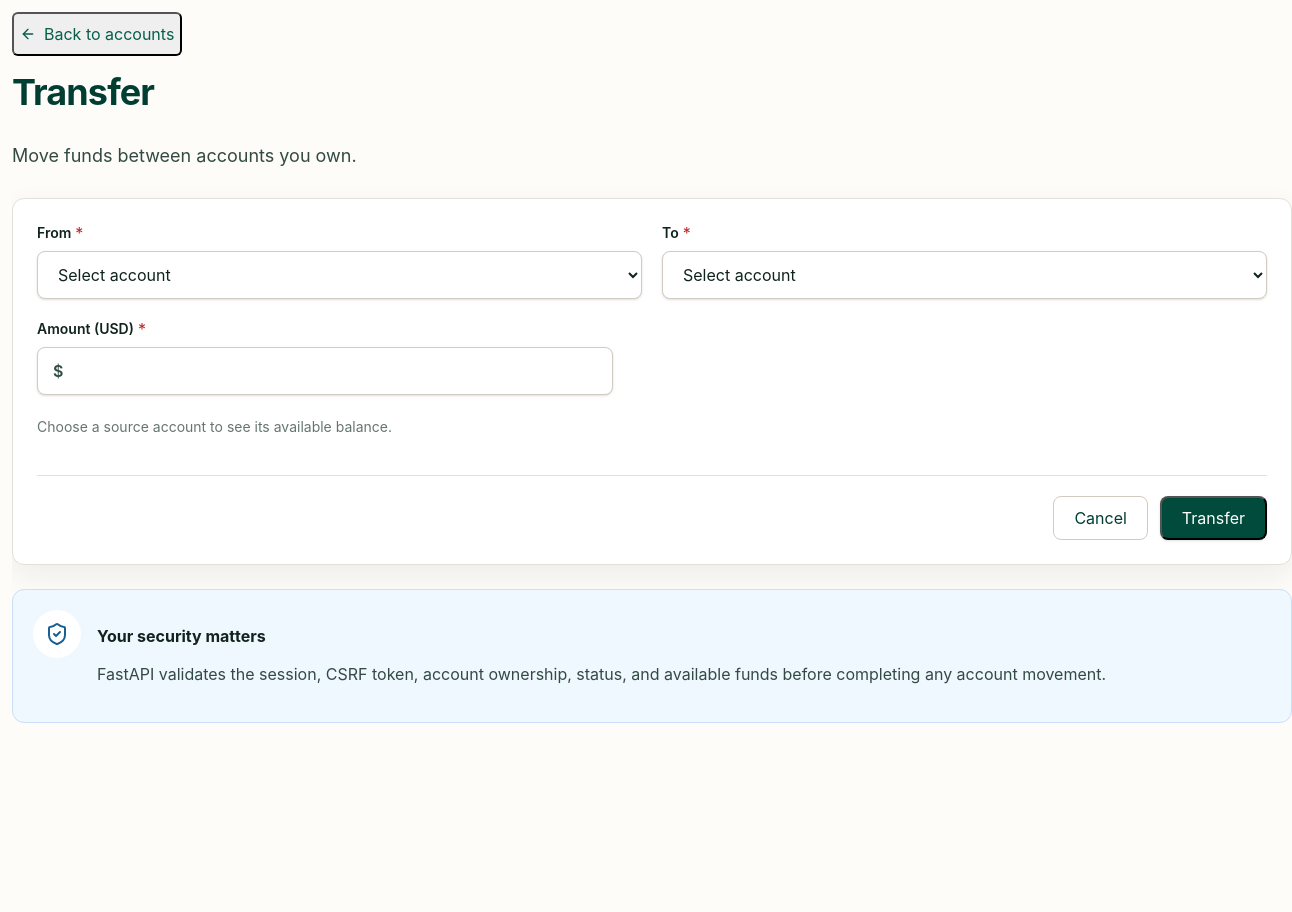
rejects a same-account transfer before sending a mutation
Select "CHECKING •1001 — $10.00" in the dropdown labelled "From" at (340, 275), box [37,251,642,299]
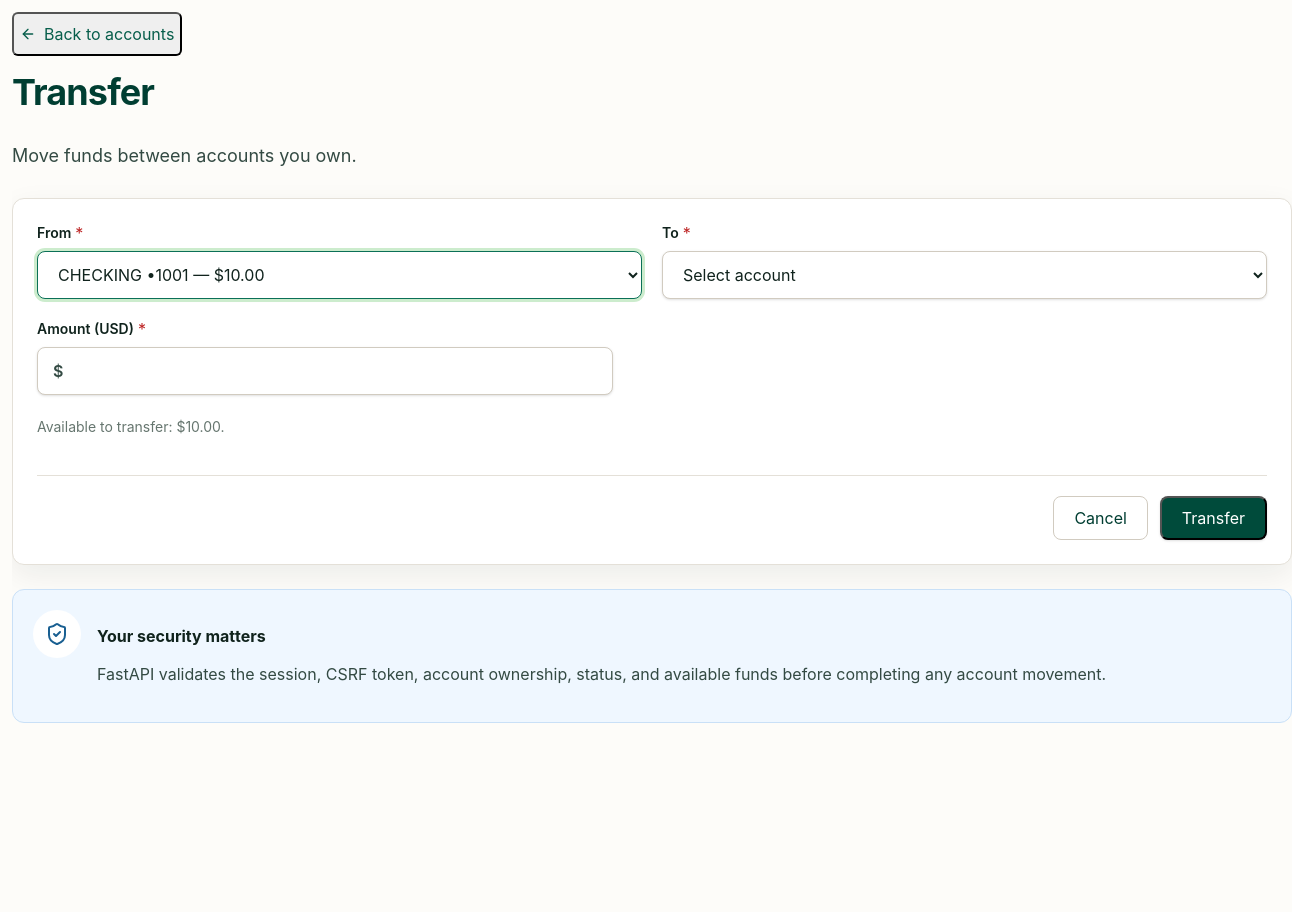
Select "CHECKING •1001 — $10.00" in the dropdown labelled "To" at (964, 275), box [662,251,1267,299]
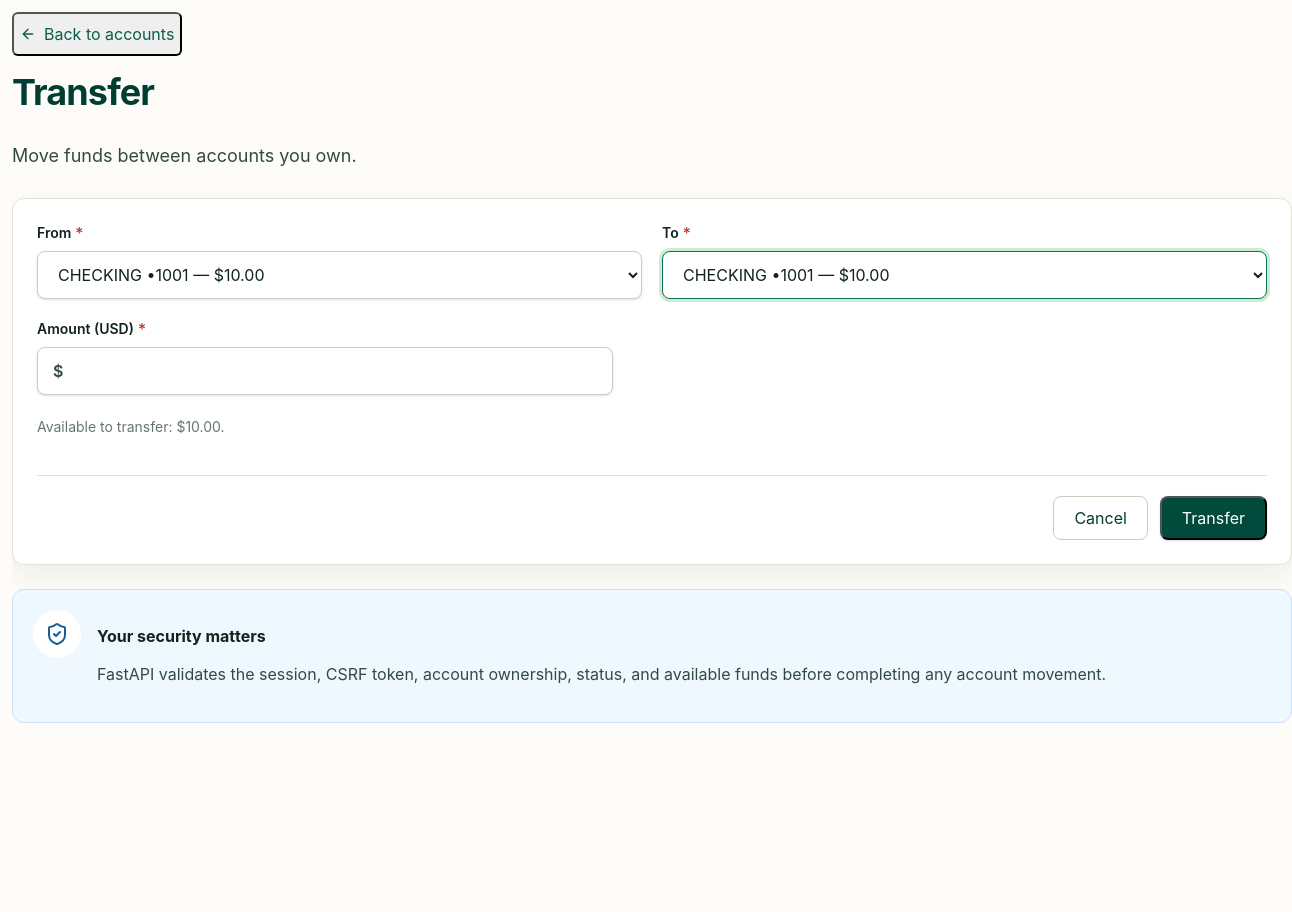
Type "1.00" into the field labelled "Amount (USD)" at (325, 371), box [37,347,613,395]
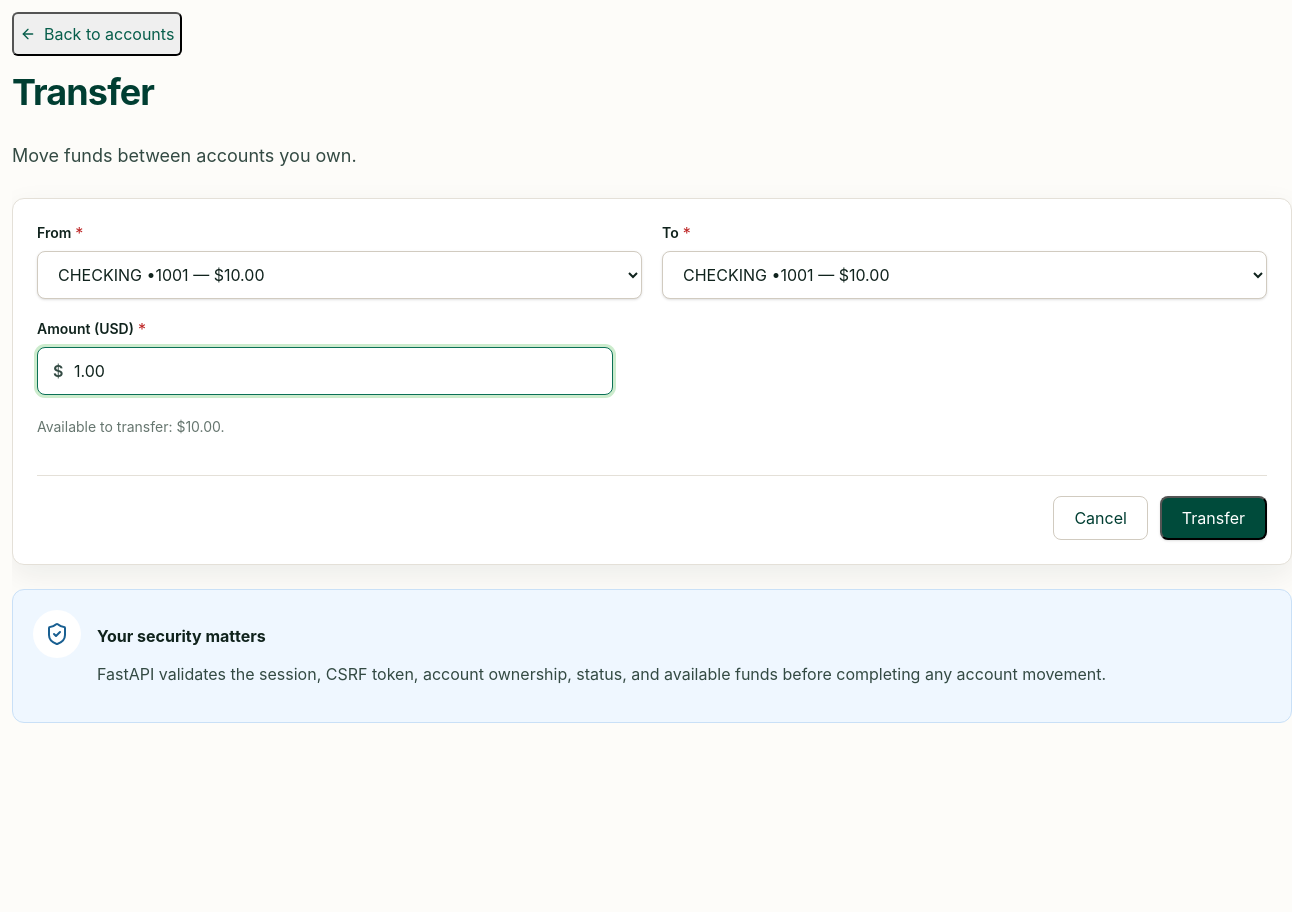
Click the button "Transfer" at (1213, 518), box [1160,496,1267,540]
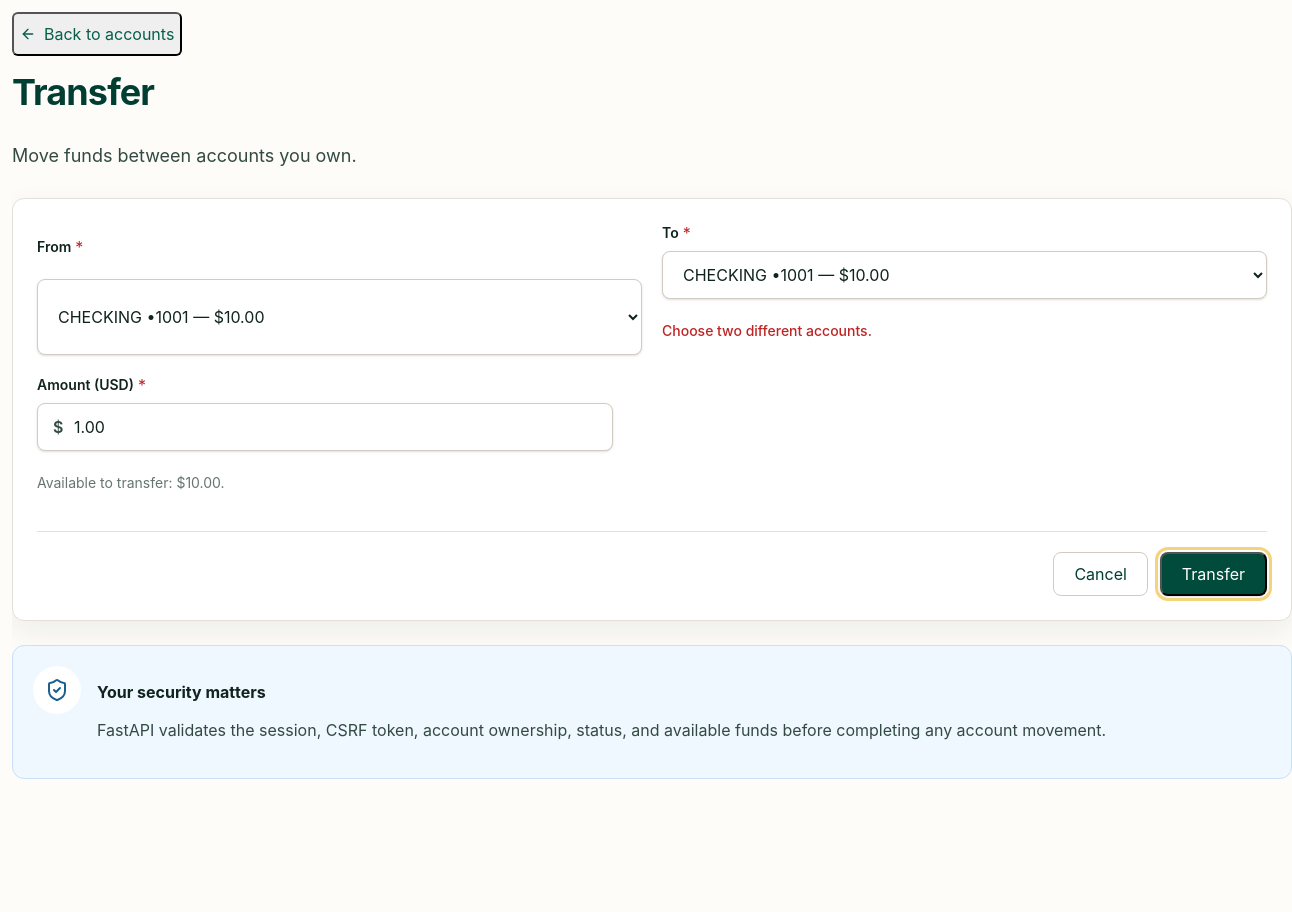
Expected: the message shows "two different accounts", [662,322,872,339]
